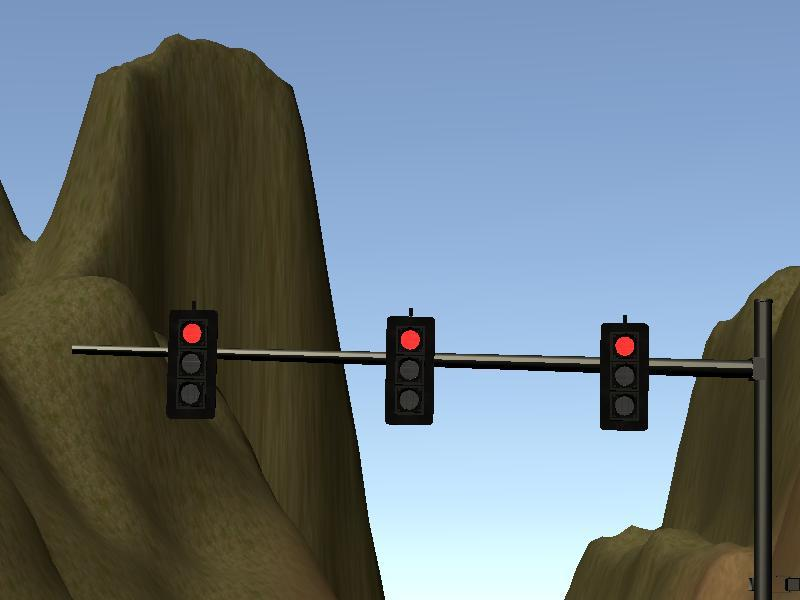Red: (385, 316, 434, 424), (600, 323, 649, 431), (167, 310, 216, 418)
